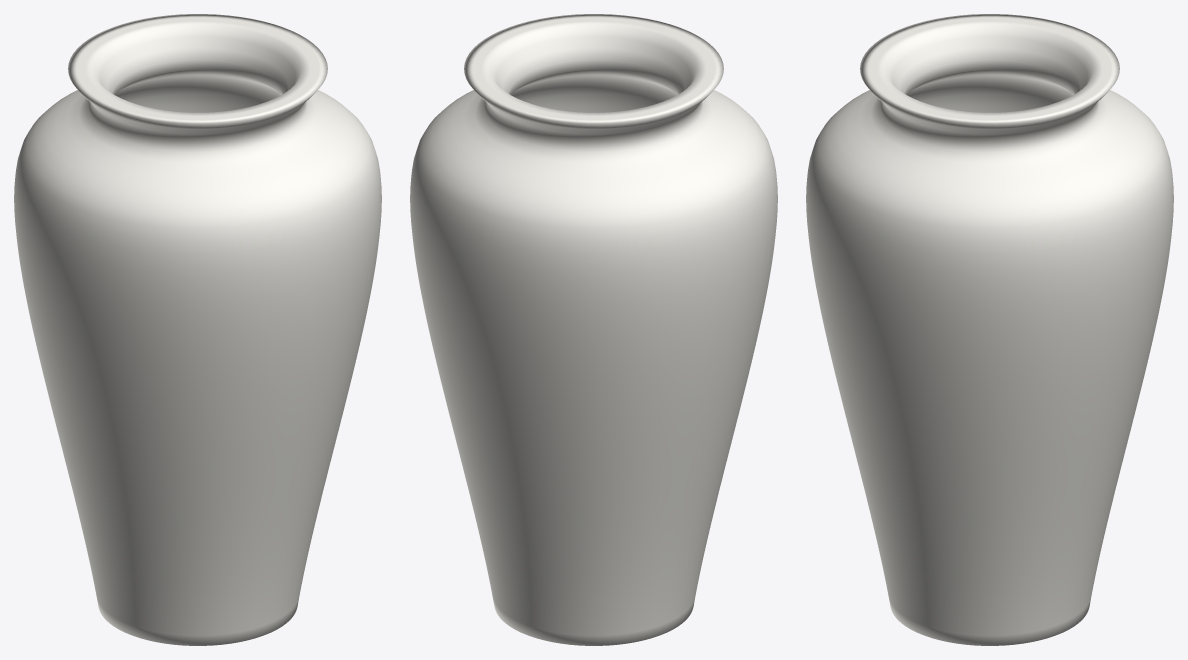
Rendered from Not Urn.glb.
The picture shows the model from 3 angles, left to right: view 1: azimuth 30°, elevation 25°; view 2: azimuth 150°, elevation 25°; view 3: azimuth 270°, elevation 25°; orthographic projection.
Parts seen in each view (by area): view 1: Lathe 1; view 2: Lathe 1; view 3: Lathe 1.
Boxes of the visible parts, x1=… form: Lathe 1: x1=14, y1=14, x2=381, y2=645; Lathe 1: x1=410, y1=14, x2=777, y2=645; Lathe 1: x1=806, y1=14, x2=1173, y2=645.
Bounding box in the file's own units: 0.6187 × 0.9954 × 0.6194.
Materials: 2 (1 with a texture image).
